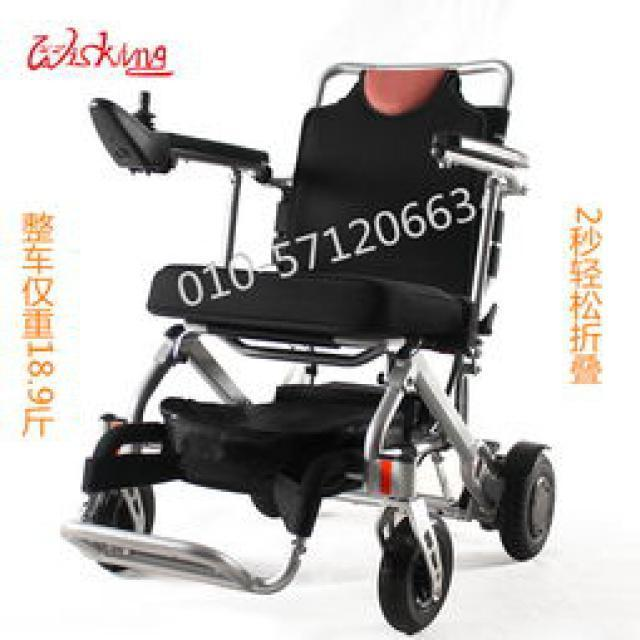wheelchairs: (85, 60, 553, 637)
